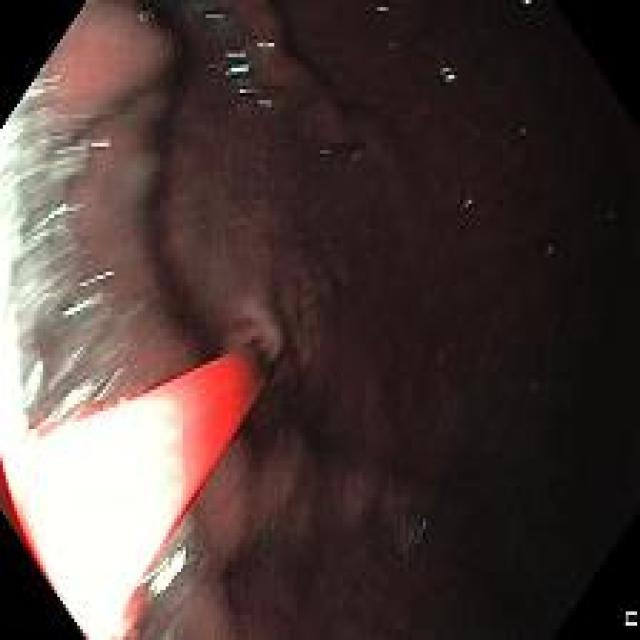blur: (4, 2, 441, 638)
color misalignment: (625, 611, 637, 628)
contrast: (476, 12, 638, 634)
instrument: (1, 344, 269, 638)
saturation: (2, 390, 185, 637), (0, 110, 28, 463)
specularity: (151, 548, 187, 597), (34, 199, 68, 229), (22, 77, 60, 98), (61, 295, 94, 319), (78, 268, 115, 287), (92, 381, 113, 402), (439, 64, 455, 83), (223, 64, 249, 75), (256, 37, 275, 50), (225, 49, 247, 59), (204, 11, 225, 21), (89, 139, 111, 147), (462, 197, 473, 211), (256, 98, 272, 107), (375, 4, 388, 11), (236, 87, 247, 94)
